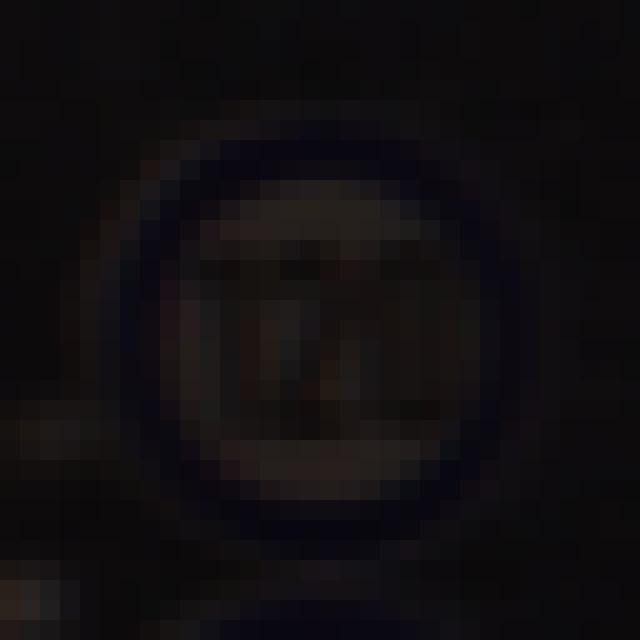SPEED LIMIT 120: (138, 128, 520, 530)
